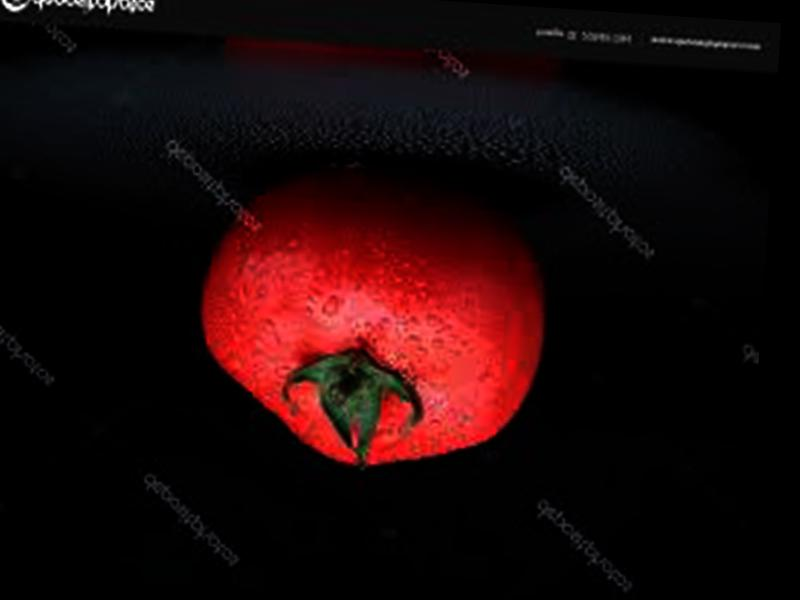Tomato: (189, 157, 557, 481)
